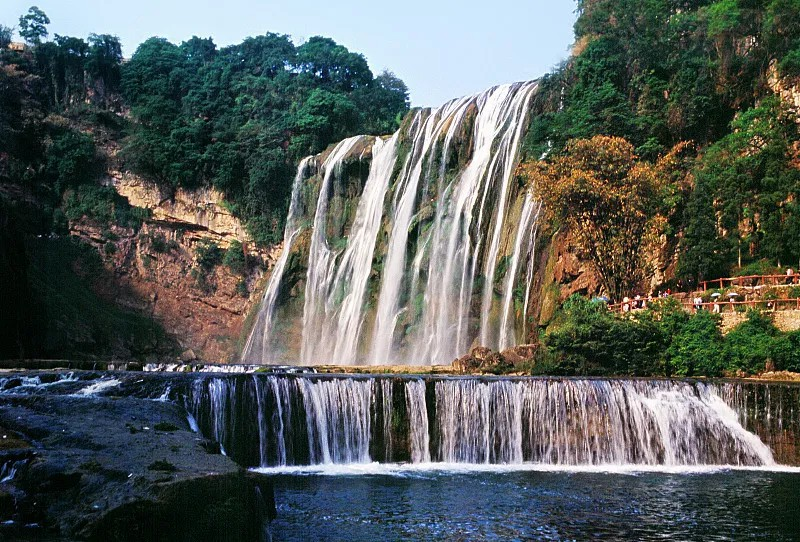Huangguoshu: (247, 82, 546, 364)
